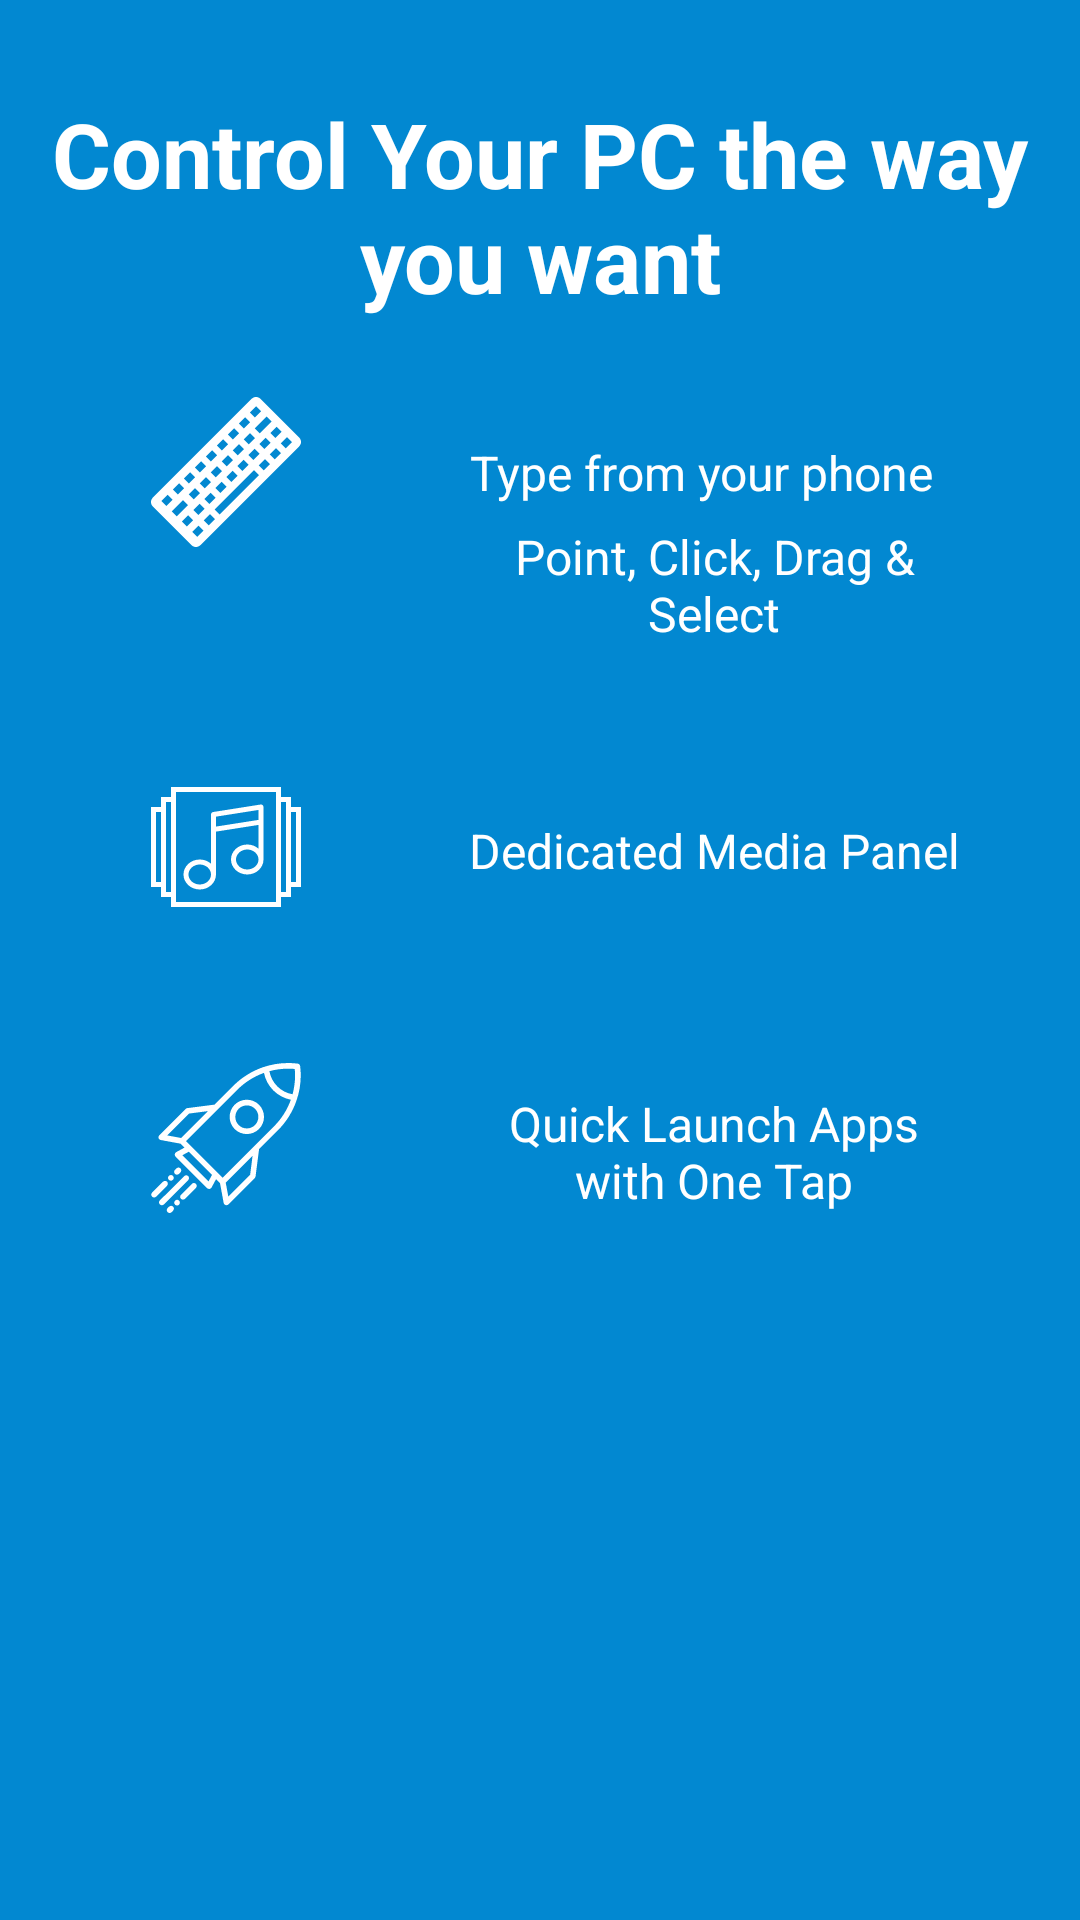

Where to tap for icons on this 1080×1920 app screen, as (x,y):
keyboard rotated slide: (226,472)
music player slide: (226,847)
rocket ship slide: (226,1138)
